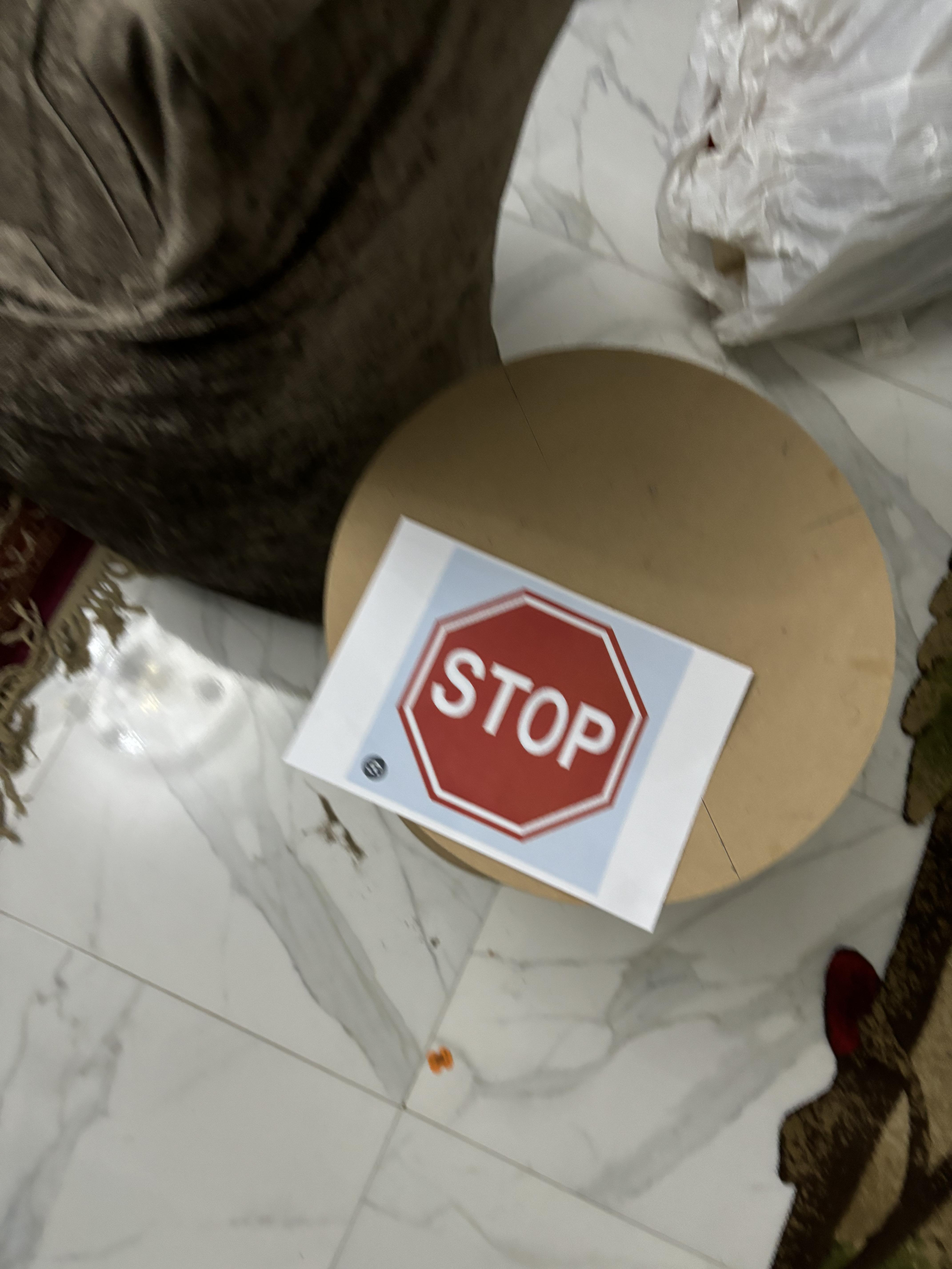Stop: (398, 587, 653, 837)
